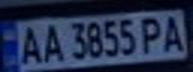3: (66, 19, 87, 61)
5: (118, 16, 142, 56), (103, 17, 121, 57)
8: (84, 19, 106, 60)
A: (36, 21, 66, 64), (15, 24, 45, 66), (157, 12, 187, 53)
P: (136, 14, 169, 54)
